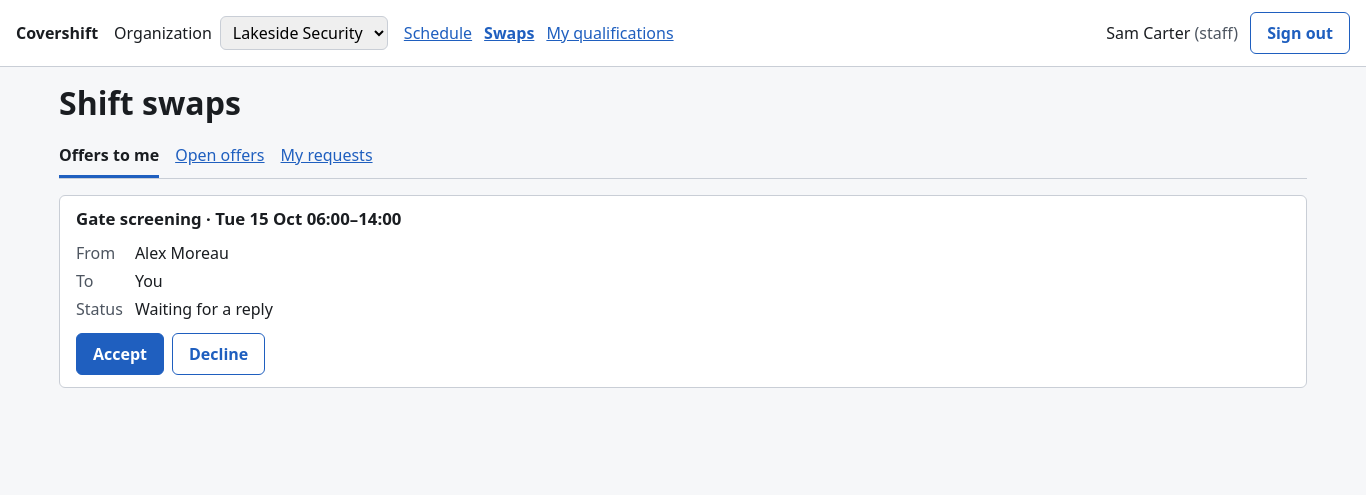
Test case: SwapsPage › a 409 SWAP_INVALID_TRANSITION shows its title and the API reason verbatim
Click the button "Accept" at (120, 354), box [76,333,164,375]
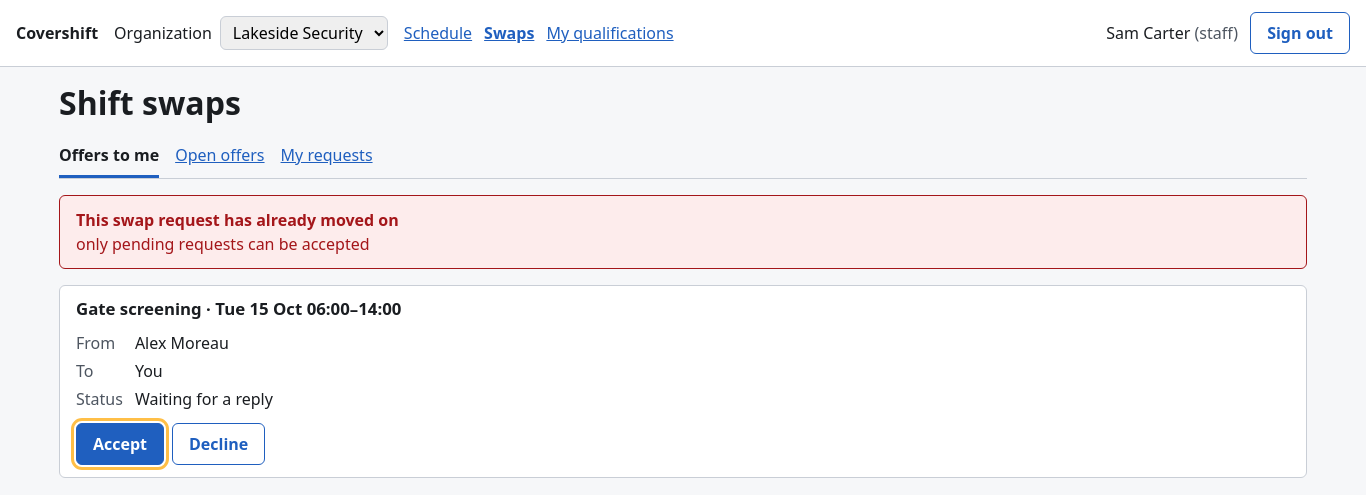
Now the message shows "This swap request has already moved on", box [76,209,399,231]
Now the message shows "only pending requests can be accepted", box [76,233,370,255]
